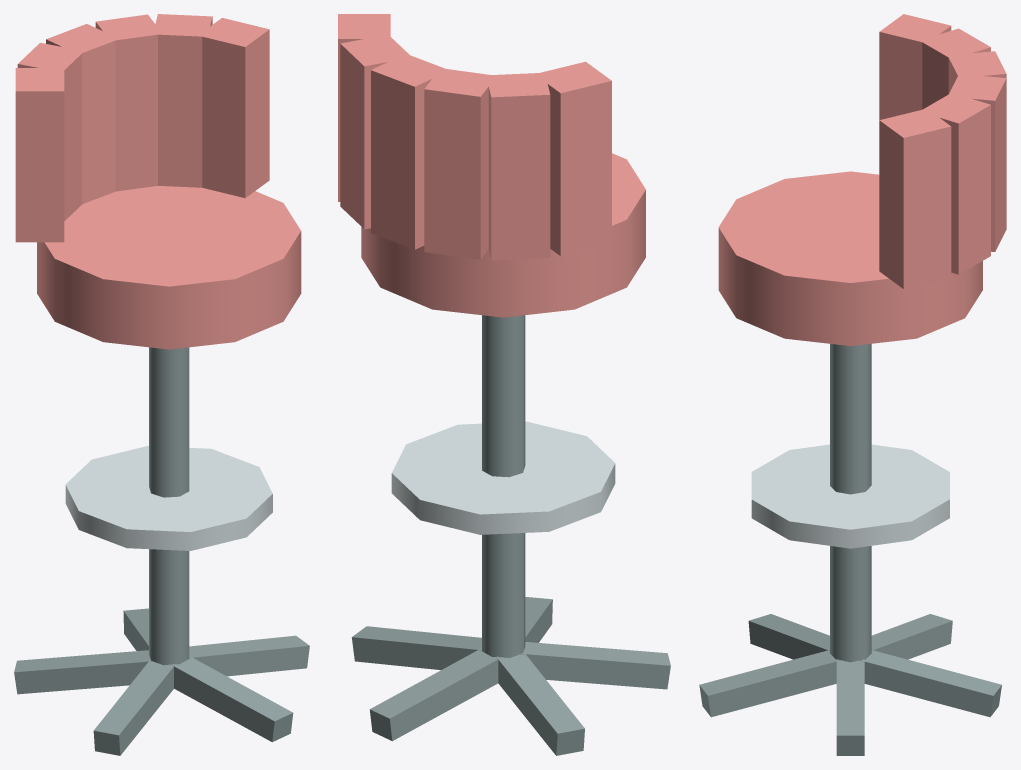
File: stoolSwivel.glb
3 renders of one model, left to right at view 1: azimuth 30°, elevation 25°; view 2: azimuth 150°, elevation 25°; view 3: azimuth 270°, elevation 25°, orthographic. The views are drawn at different scales.
Parts seen in each view (by area): view 1: stoolSwivel; view 2: stoolSwivel; view 3: stoolSwivel.
Boxes of the visible parts, bbox=[...] form: stoolSwivel: bbox=[14, 14, 309, 755]; stoolSwivel: bbox=[338, 14, 670, 755]; stoolSwivel: bbox=[699, 14, 1006, 755].
Bounding box in the file's own units: 0.2167 × 0.4887 × 0.2209.
